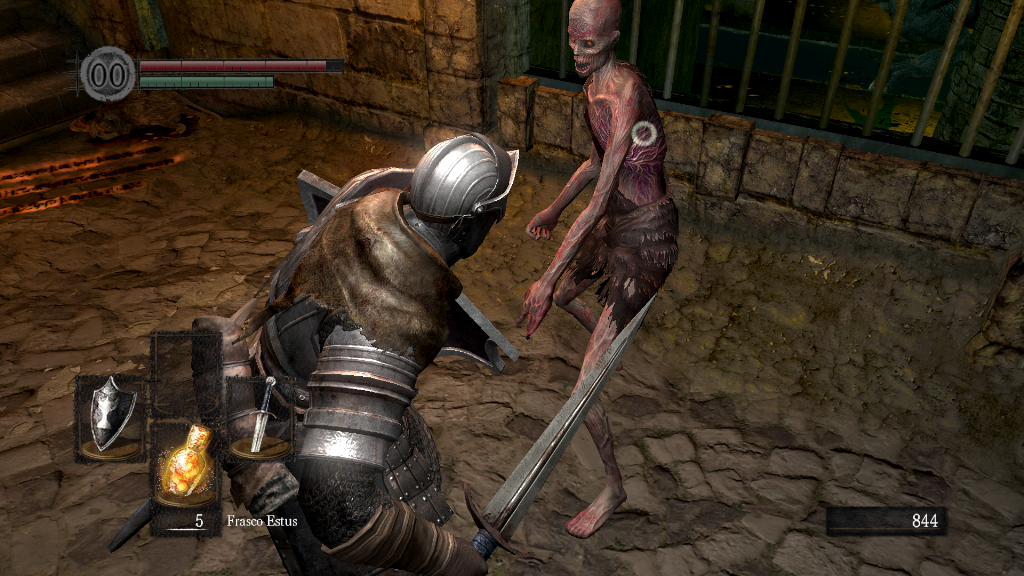health: (138, 58, 343, 71)
hollow: (518, 2, 682, 541)
humanity: (80, 45, 136, 102)
player: (189, 128, 659, 576)
souls: (825, 506, 945, 536)
stamina: (138, 74, 274, 88)
